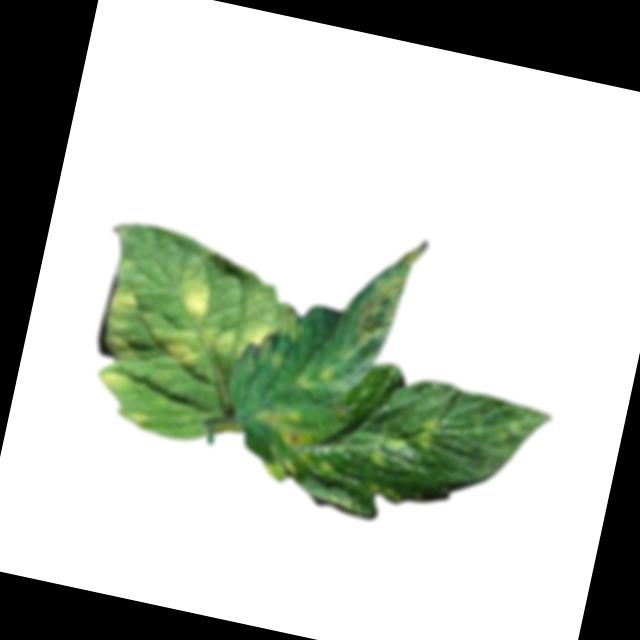Leaf_Mold: (248, 399, 318, 450), (210, 314, 272, 367), (167, 265, 216, 330), (149, 322, 207, 370), (258, 446, 303, 487), (105, 280, 145, 321), (290, 358, 333, 395), (96, 363, 135, 396), (412, 414, 441, 452)
